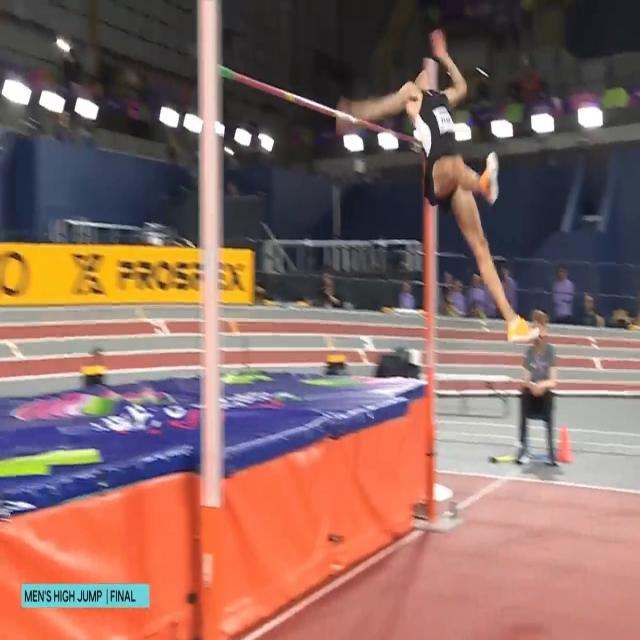jump: (338, 32, 540, 345)
